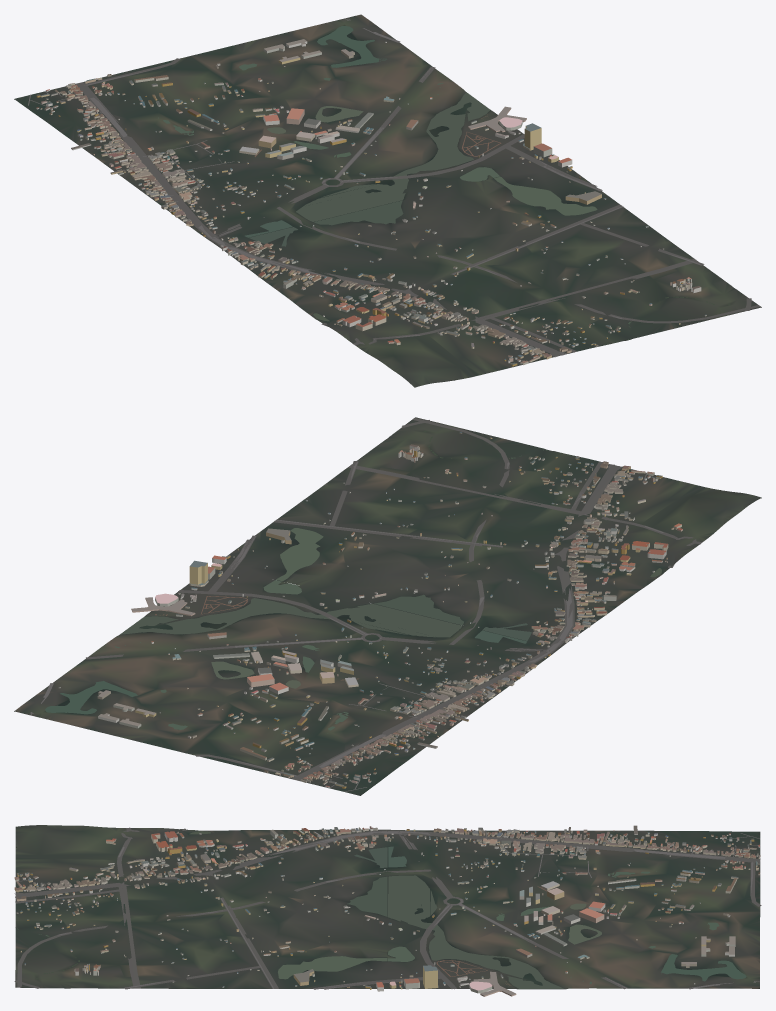
The picture shows the model from 3 angles, top to bottom: view 1: azimuth 30°, elevation 25°; view 2: azimuth 150°, elevation 25°; view 3: azimuth 270°, elevation 25°; orthographic projection. The views are drawn at different scales.
Visible parts, largest first — view 1: ground, buildings, water, roads; view 2: ground, buildings, water, roads; view 3: ground, buildings, water, roads.
Boxes of the visible parts, x1,y1,x2,y2 form: ground: (14,14,761,387); buildings: (36,39,706,366); water: (158,26,730,380); roads: (28,18,760,362); ground: (14,417,761,795); buildings: (58,432,682,788); water: (45,431,721,733); roads: (30,418,701,791); ground: (15,825,760,989); buildings: (14,825,760,996); water: (15,831,746,988); roads: (14,827,761,989).
Size of the model in its own units: 1506 by 77.19 by 2817.
